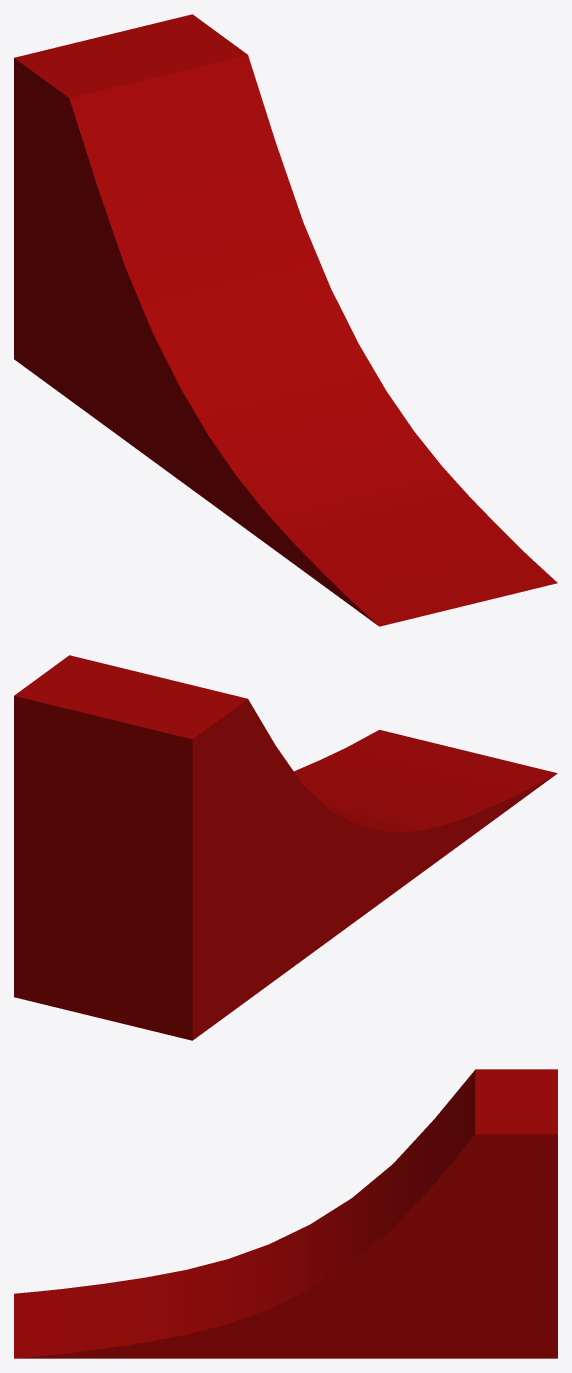
Rendered from Ramp.fbx.
3 views of the same model, one above another, from view 1: azimuth 30°, elevation 25°; view 2: azimuth 150°, elevation 25°; view 3: azimuth 270°, elevation 25° (orthographic). The views are drawn at different scales.
Parts seen in each view (by area): view 1: Ramp; view 2: Ramp; view 3: Ramp.
Boxes of the visible parts, bbox=[...] form: Ramp: bbox=[14, 14, 557, 626]; Ramp: bbox=[14, 655, 557, 1040]; Ramp: bbox=[14, 1069, 557, 1358].
Size of the model in its own units: 62 by 100 by 220.
